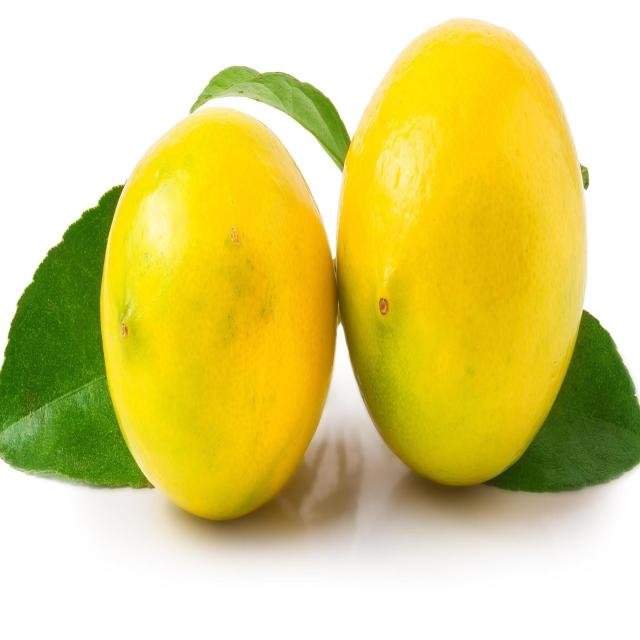lemon: (331, 11, 589, 492), (95, 100, 343, 528)
